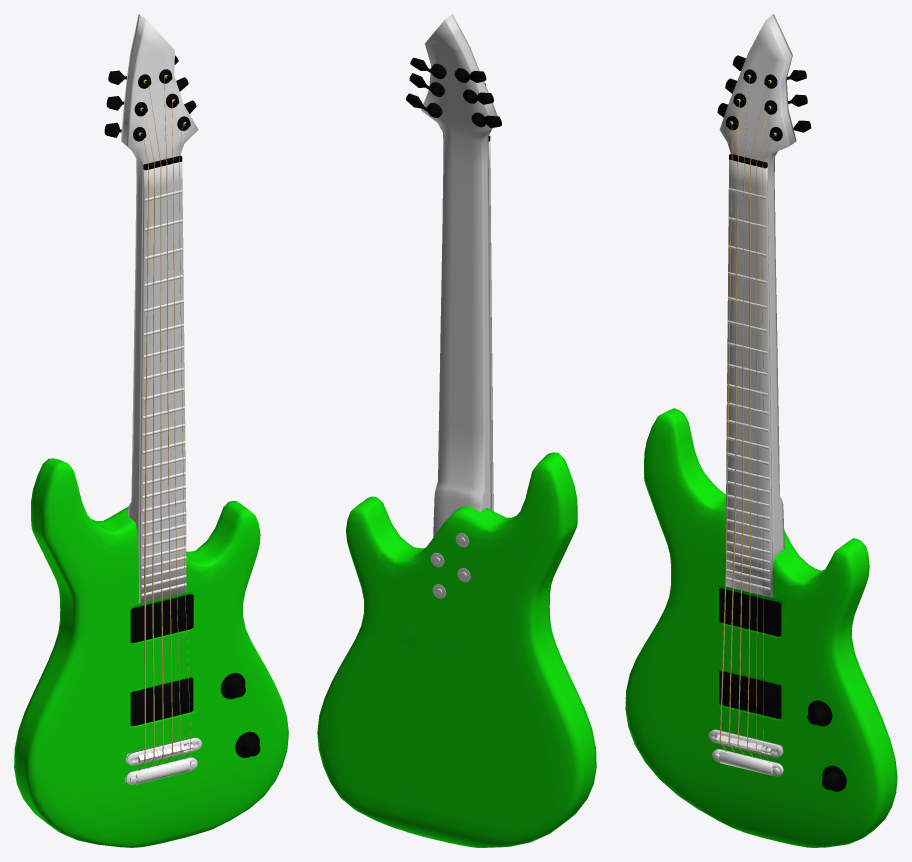
The model's file is second-gitar.glb.
3 renders of one model, left to right at view 1: azimuth 30°, elevation 25°; view 2: azimuth 150°, elevation 25°; view 3: azimuth 330°, elevation 25°, orthographic. The views are drawn at different scales.
Visible parts, largest first — view 1: body, Cube.002, Cube, Cube.034, Cube.033, Circle.018, Circle.017, Cylinder.033, Circle.016, Circle.021, Circle.020, Cylinder.030 (+3 smaller); view 2: body, Cube, Cube.002; view 3: body, Cube.002, Cube, Cube.033, Cube.034, Circle.016, Circle.018, Circle.017, Circle.021, Cylinder.033, Circle.020, Cylinder.030 (+3 smaller).
Part boxes in pixels (box(x1,y1,x2,y2)): body: box(14, 458, 288, 847); Cube.002: box(139, 161, 186, 603); Cube: box(121, 14, 198, 600); Cube.034: box(130, 677, 193, 726); Cube.033: box(130, 594, 193, 643); Circle.018: box(143, 79, 163, 765); Circle.017: box(138, 132, 148, 770); Cylinder.033: box(125, 757, 197, 784); Circle.016: box(140, 107, 154, 768); Circle.021: box(164, 75, 172, 763); Circle.020: box(172, 99, 181, 761); Cylinder.030: box(126, 737, 201, 765); body: box(317, 452, 596, 847); Cube: box(421, 14, 497, 537); Cube.002: box(488, 141, 493, 510); body: box(625, 408, 897, 847); Cube.002: box(725, 159, 772, 597); Cube: box(719, 14, 796, 594); Cube.033: box(719, 588, 781, 636); Cube.034: box(719, 671, 781, 719); Circle.016: box(728, 99, 740, 753); Circle.018: box(737, 74, 751, 755); Circle.017: box(719, 121, 733, 751); Circle.021: box(747, 80, 771, 757); Cylinder.033: box(712, 749, 783, 776); Circle.020: box(756, 105, 771, 759); Cylinder.030: box(708, 729, 783, 757).
Size of the model in its own units: 1.79 by 5.37 by 0.3715.
